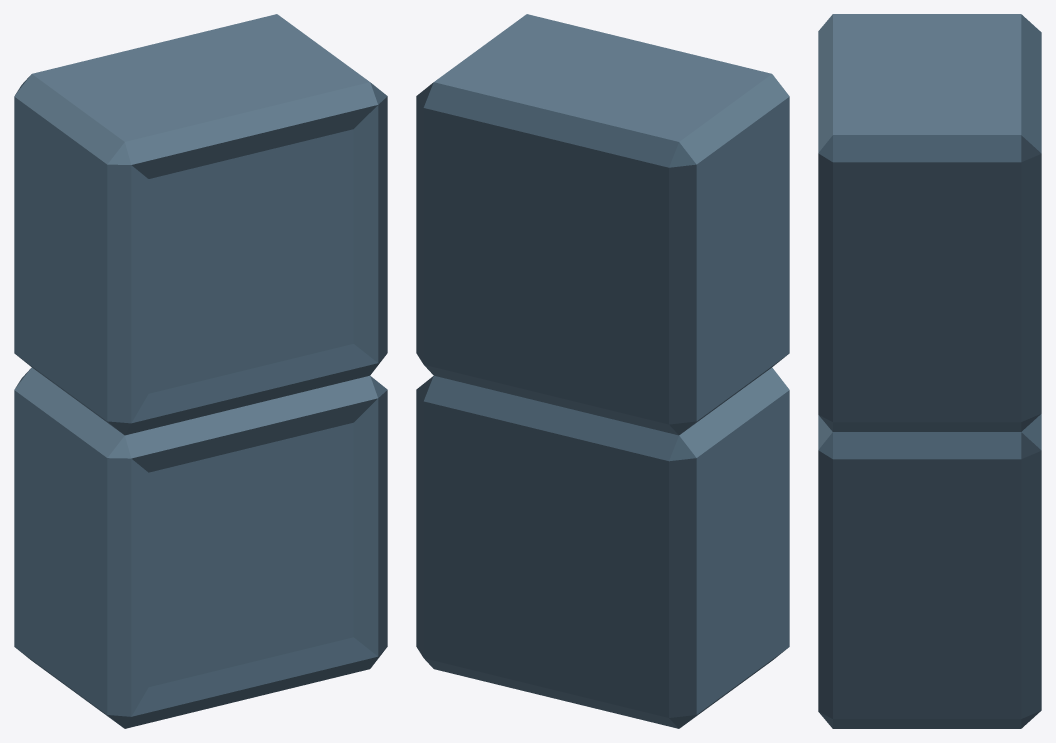
Rendered from Terrain_Block1x2.gltf.
3 views of the same model, side by side, from view 1: azimuth 30°, elevation 25°; view 2: azimuth 150°, elevation 25°; view 3: azimuth 270°, elevation 25° (orthographic).
Parts seen in each view (by area): view 1: Terrain_Block1x2_baked; view 2: Terrain_Block1x2_baked; view 3: Terrain_Block1x2_baked.
Boxes of the visible parts, <box> form: Terrain_Block1x2_baked: <box>14,14,387,728</box>; Terrain_Block1x2_baked: <box>416,14,789,728</box>; Terrain_Block1x2_baked: <box>818,14,1041,728</box>.
Bounding box in the file's own units: 1 × 2 × 0.6822.
